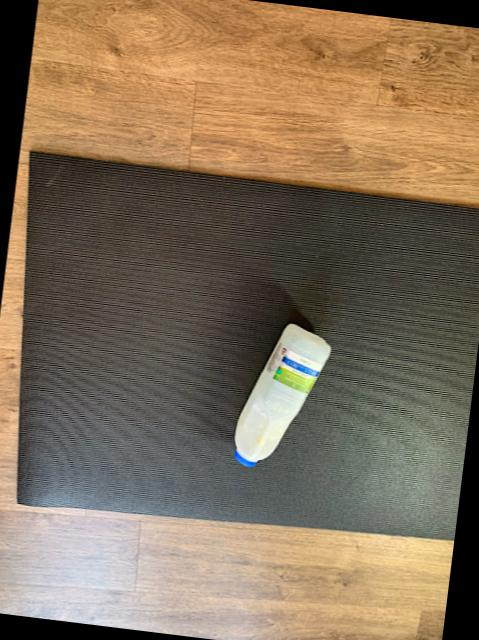plastic: (236, 322, 331, 464)
